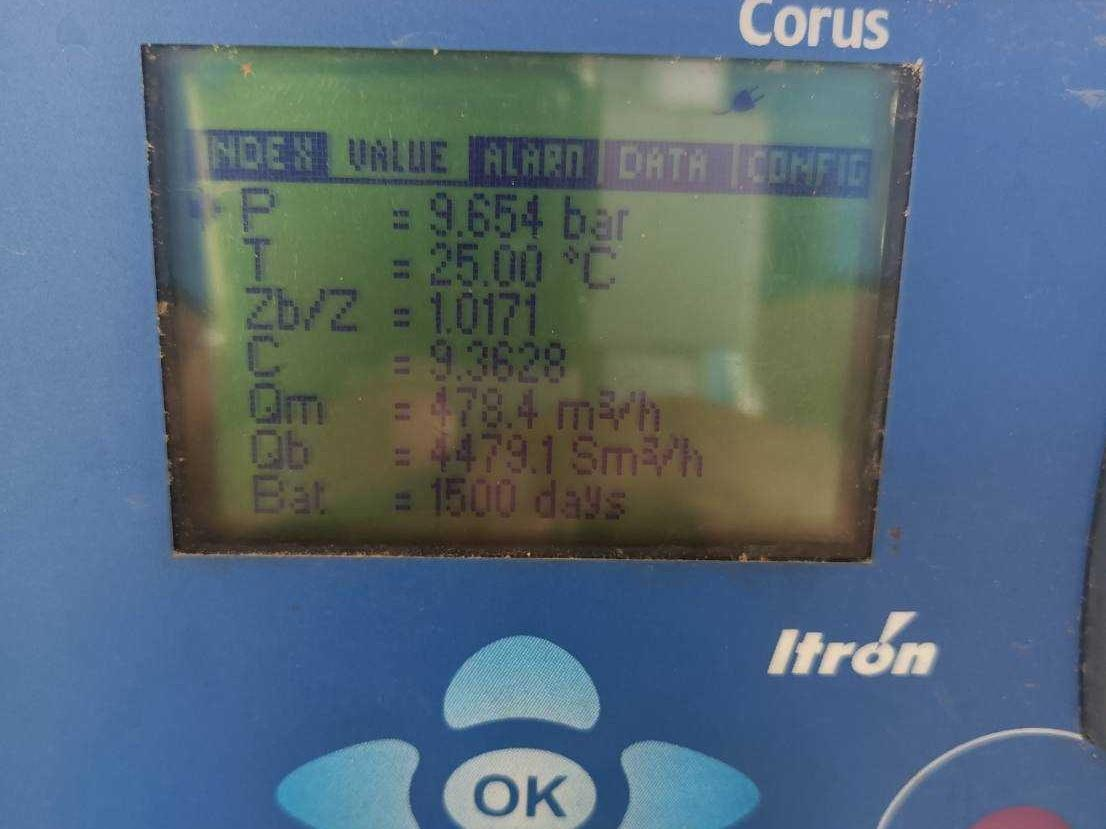digital_screen: (137, 46, 922, 560)
